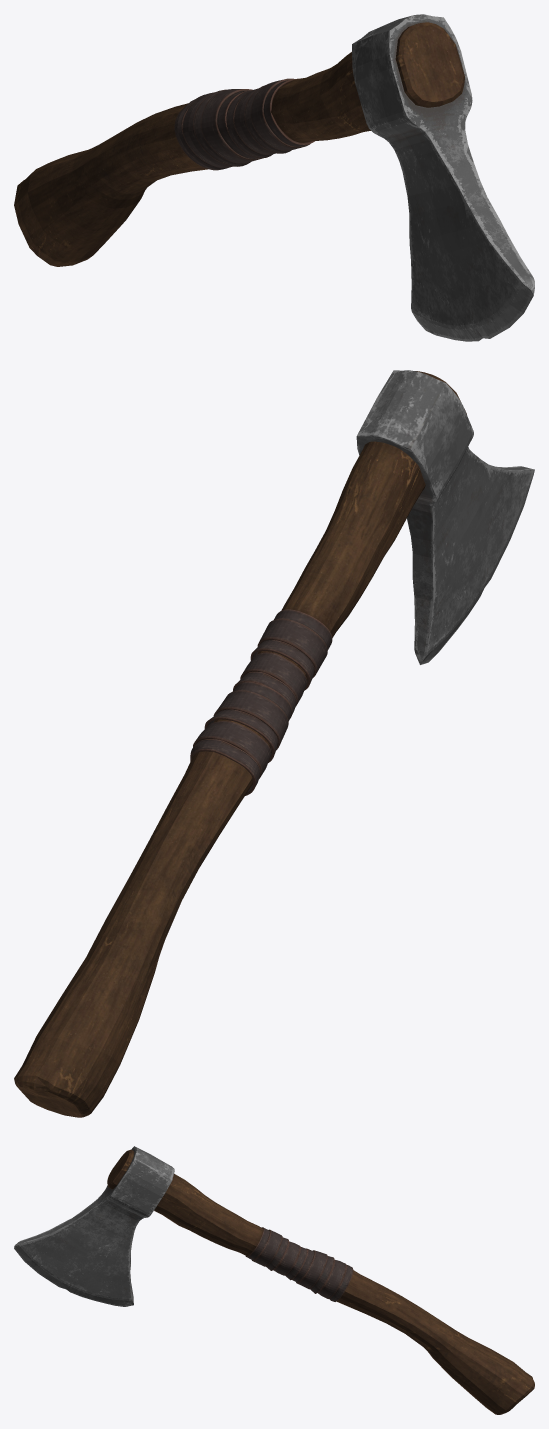
The model's file is axe1.gltf.
3 views of the same model, one above another, from view 1: azimuth 30°, elevation 25°; view 2: azimuth 150°, elevation 25°; view 3: azimuth 270°, elevation 25° (orthographic). The views are drawn at different scales.
Visible parts, largest first — view 1: axe_1; view 2: axe_1; view 3: axe_1.
Part boxes in pixels (x1=…): axe_1: x1=14, y1=14, x2=534, y2=341; axe_1: x1=14, y1=370, x2=534, y2=1117; axe_1: x1=14, y1=1146, x2=534, y2=1414.
Size of the model in its own units: 0.0605 by 0.3788 by 0.6853.
Materials: 1 (1 with a texture image).
